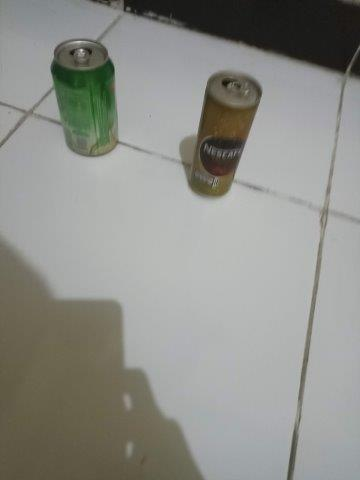kaleng: (189, 71, 263, 200), (50, 38, 119, 157)
